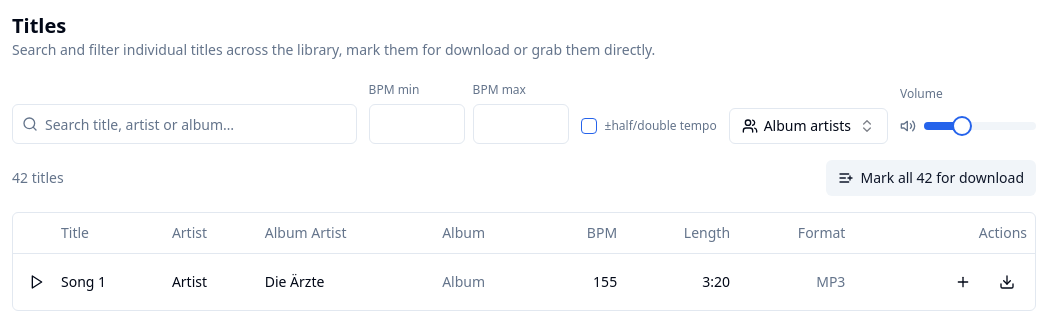
Test: LibraryTitlesPage › marks all filtered results via the ids endpoint
Click the button "Mark all 42 for download".
click(931, 178)  # box [826,160,1036,196]
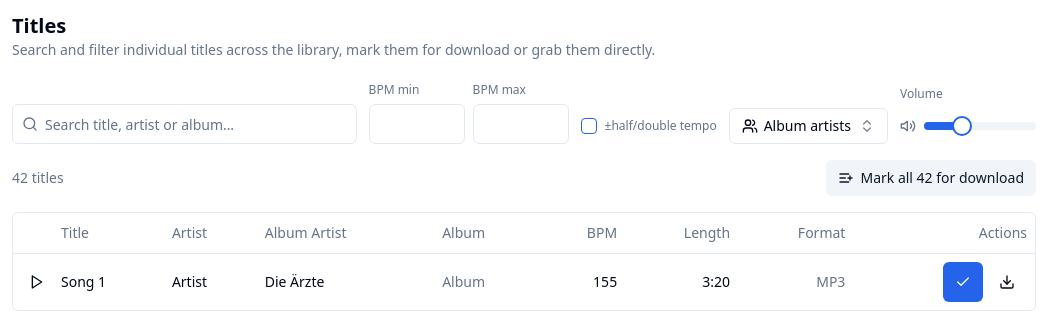
Check: the button named "Remove Song 1 from selection" is shown, box [943,262,983,302]
